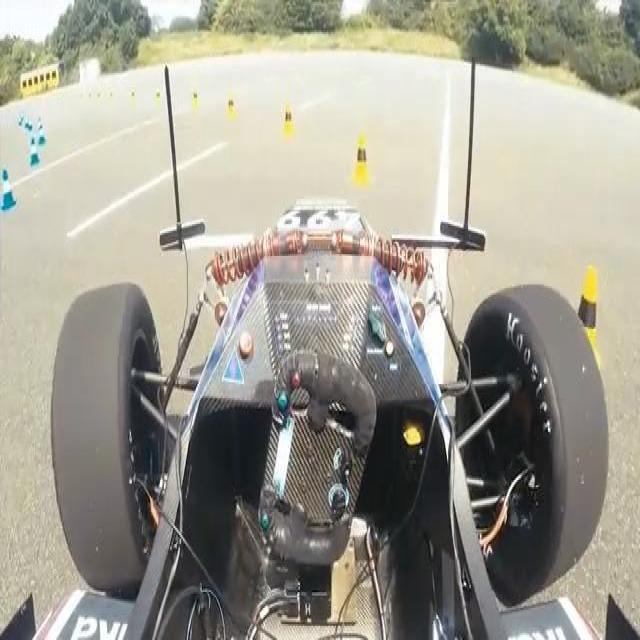blue_cone: (0, 162, 25, 217), (24, 138, 44, 176)
yellow_cone: (564, 263, 610, 366), (345, 123, 374, 214), (276, 101, 302, 147), (221, 87, 242, 120)
